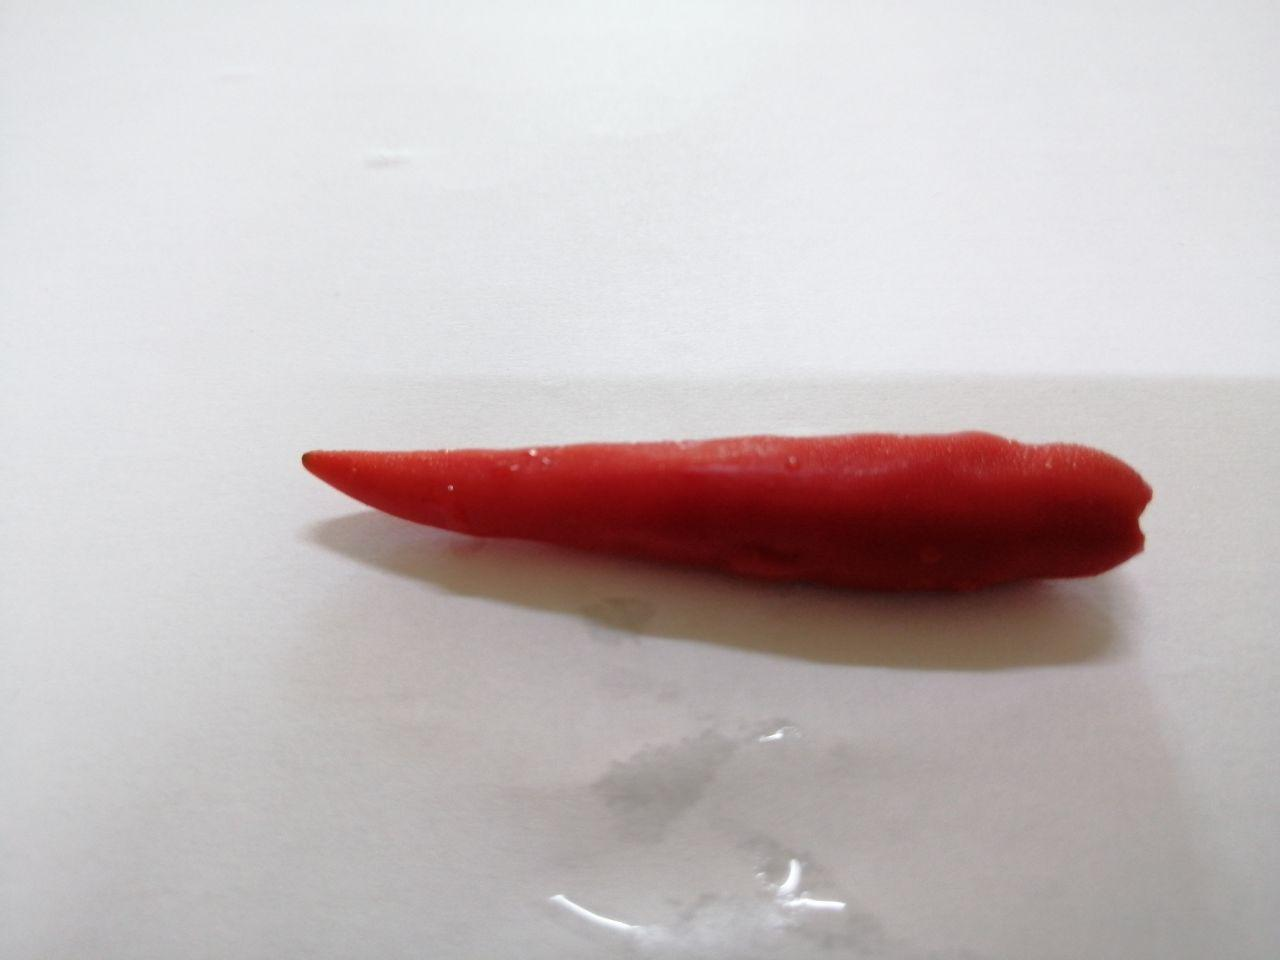lada merah: (277, 396, 1184, 639)
